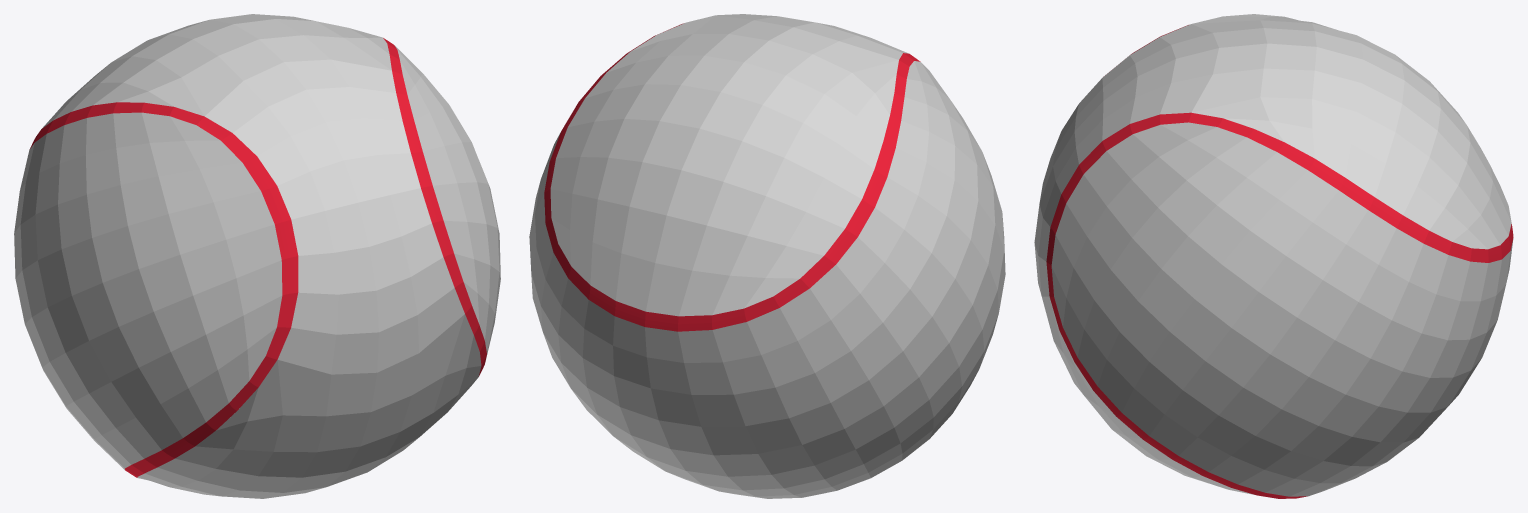
Rendered from ball.fbx.
The picture shows the model from 3 angles, left to right: view 1: azimuth 30°, elevation 25°; view 2: azimuth 150°, elevation 25°; view 3: azimuth 270°, elevation 25°; orthographic projection. The views are drawn at different scales.
Parts seen in each view (by area): view 1: ball; view 2: ball; view 3: ball.
Part boxes in pixels (x1,y1,x2,y2): ball: [14, 14, 500, 498]; ball: [529, 14, 1005, 498]; ball: [1034, 14, 1513, 498].
Bounding box in the file's own units: 162 × 162 × 165.
